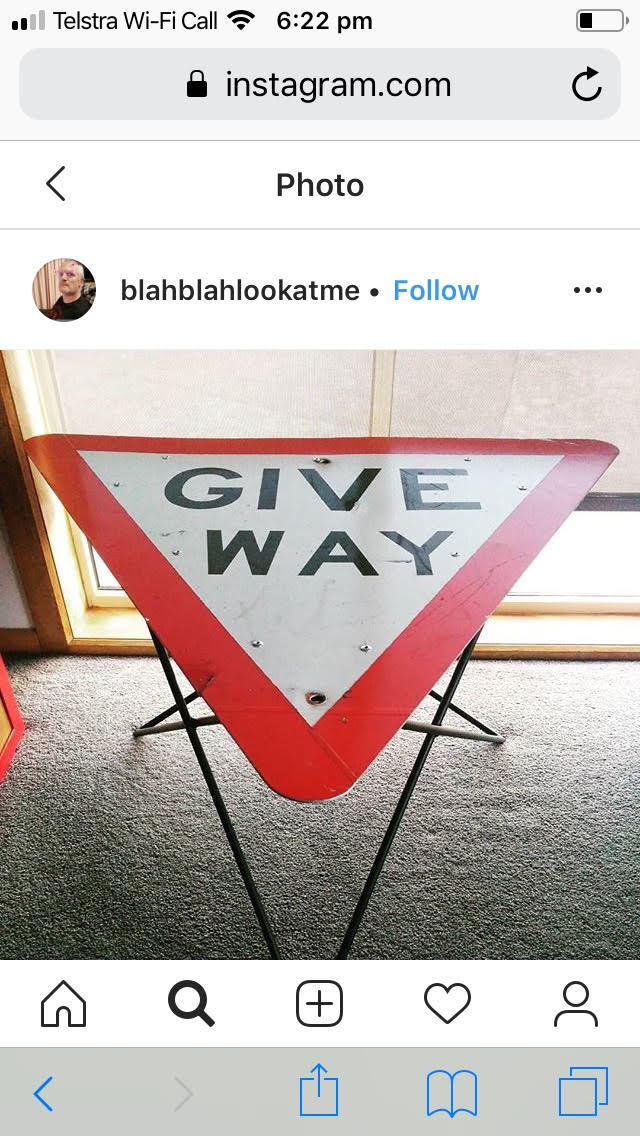giveway: (26, 433, 630, 794), (119, 490, 537, 796), (234, 445, 449, 796), (47, 431, 582, 556)
